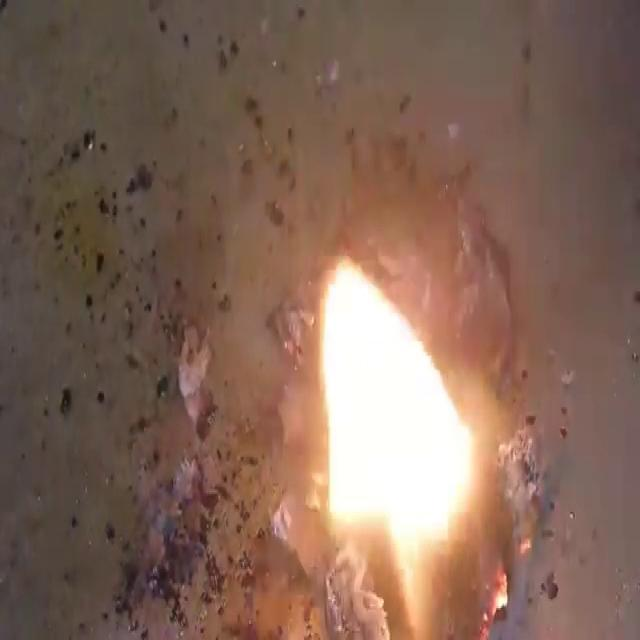Fire: (4, 4, 634, 636), (315, 251, 480, 560)
